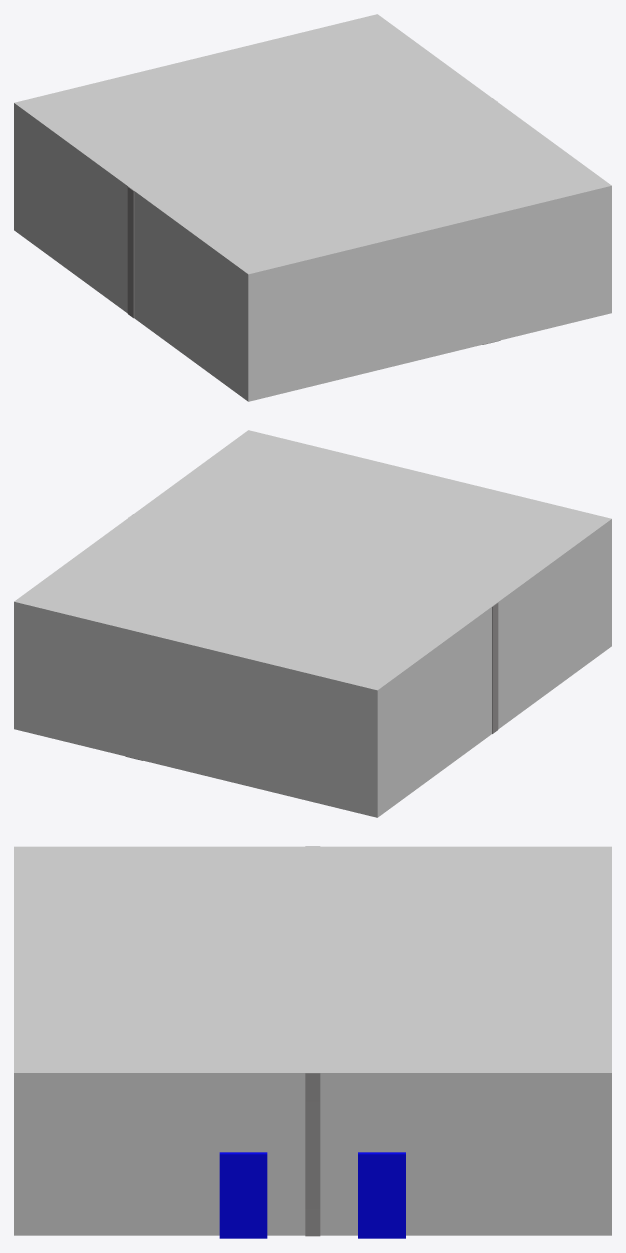
File: Room_01.fbx
3 renders of one model, top to bottom at view 1: azimuth 30°, elevation 25°; view 2: azimuth 150°, elevation 25°; view 3: azimuth 270°, elevation 25°, orthographic. The views are drawn at different scales.
Visible parts, largest first — view 1: room_cube, Wall; view 2: room_cube, Wall; view 3: room_cube, Door_1, Door_2, Wall.
Boxes of the visible parts, left/top/right/bottom form: room_cube: left=14, top=14, right=611, bottom=401; Wall: left=127, top=101, right=500, bottom=344; room_cube: left=14, top=430, right=611, bottom=817; Wall: left=125, top=517, right=498, bottom=760; room_cube: left=14, top=846, right=611, bottom=1235; Door_1: left=219, top=1152, right=267, bottom=1238; Door_2: left=358, top=1152, right=405, bottom=1238; Wall: left=305, top=846, right=320, bottom=1236.
Bounding box in the file's own units: 3620 × 1208 × 4000.
